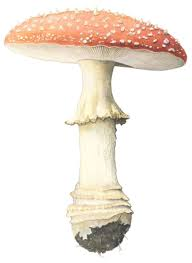Amanita muscaria: (6, 13, 186, 252)
